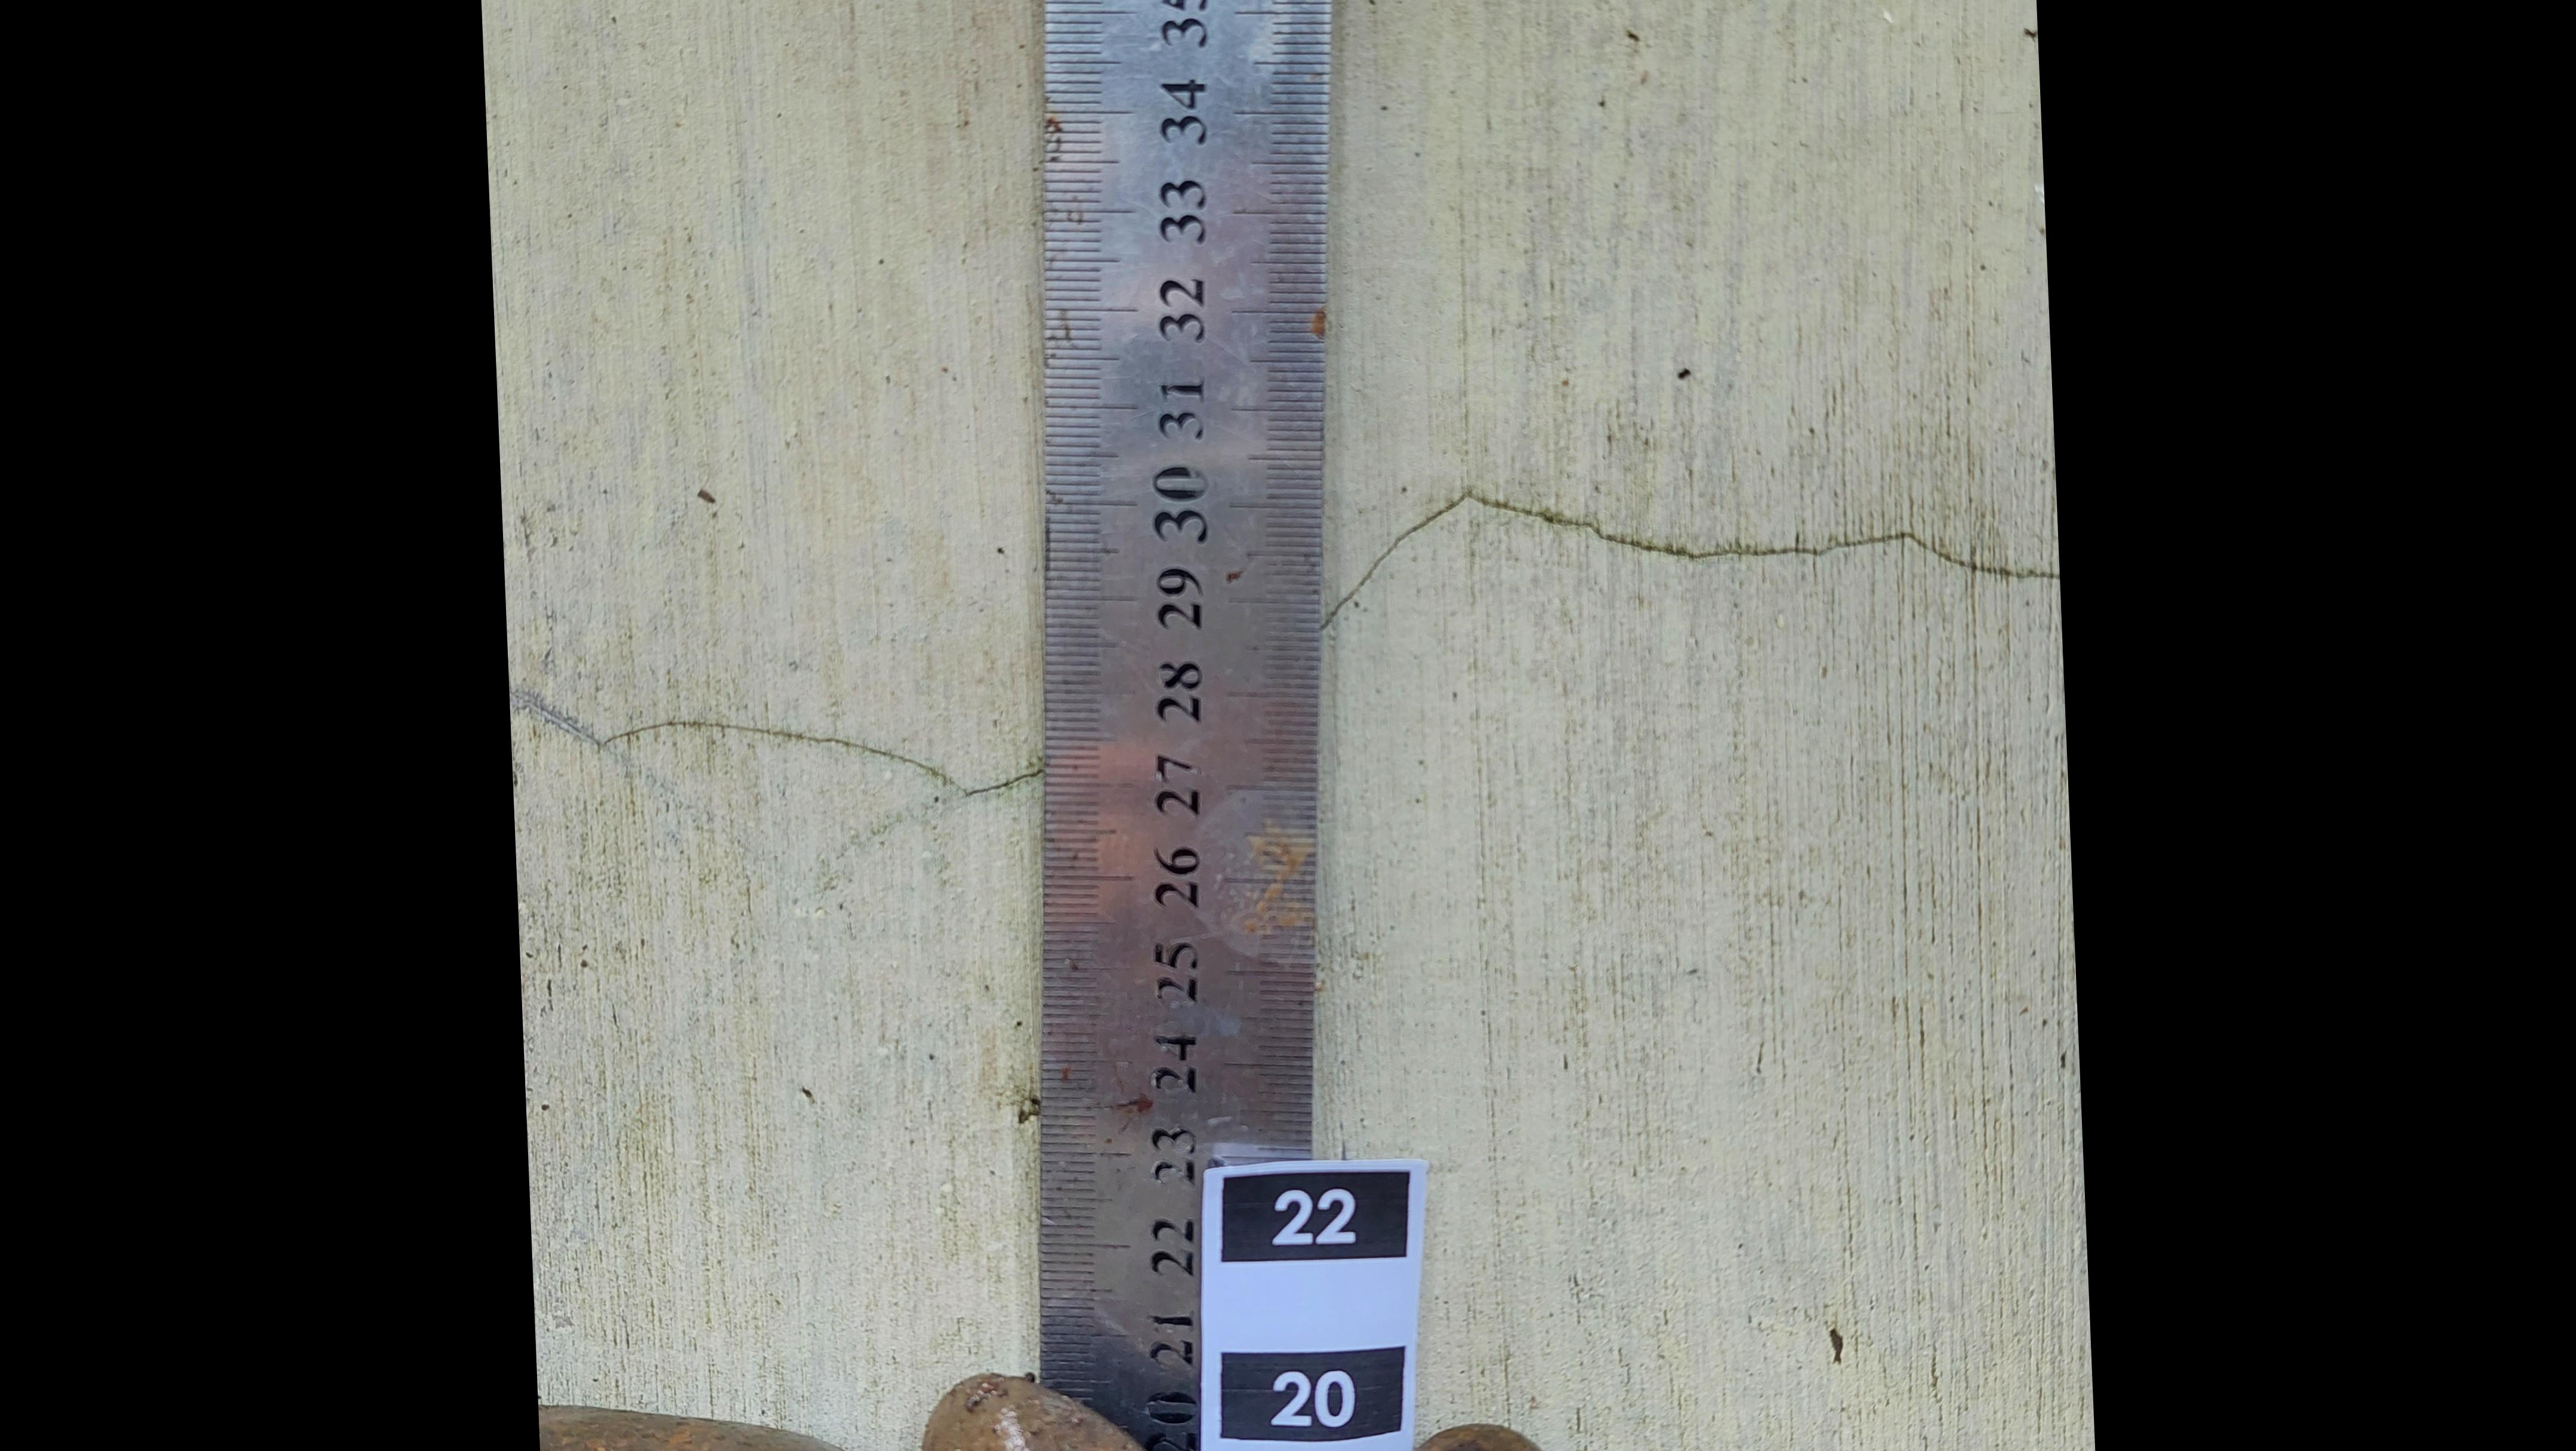kotak_2x1: (1221, 1170, 1408, 1262), (1221, 1354, 1403, 1440)
